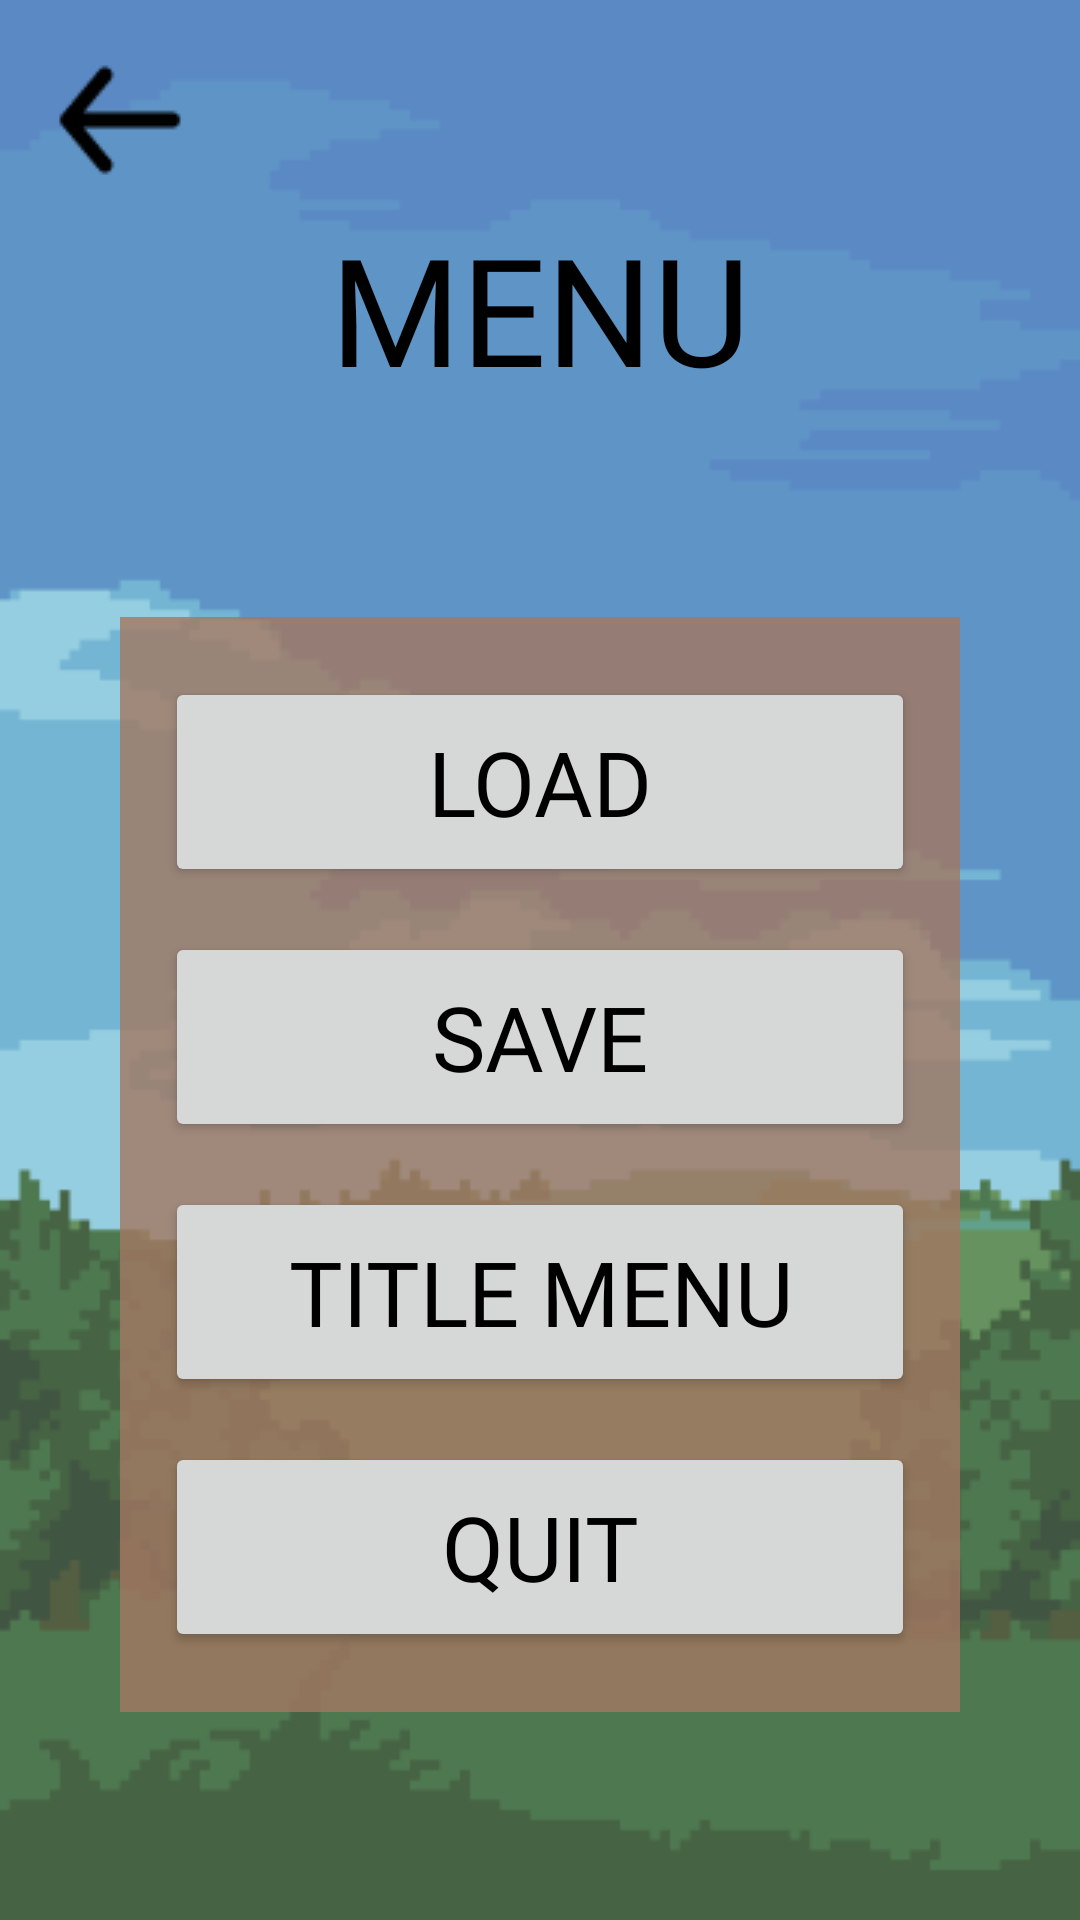

Icons on this 1080*1920 Android screen, each with the point to tap as (x=x, y=y):
arrow: (x=120, y=120)
